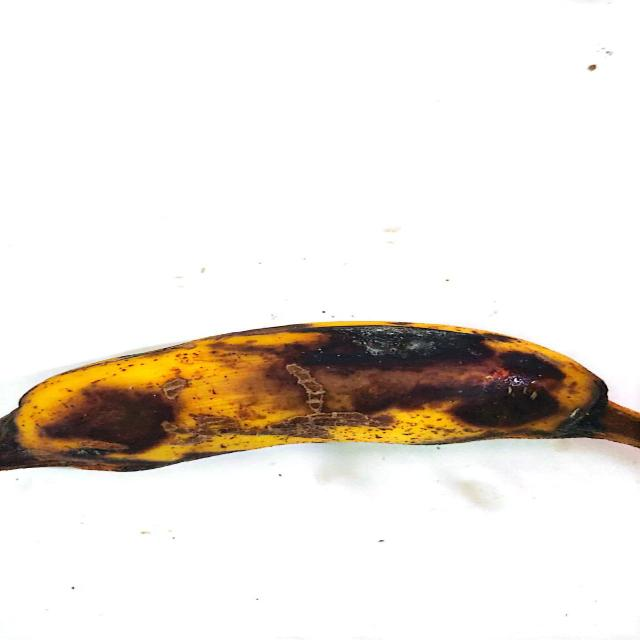rotten_banana: (2, 321, 640, 474)
